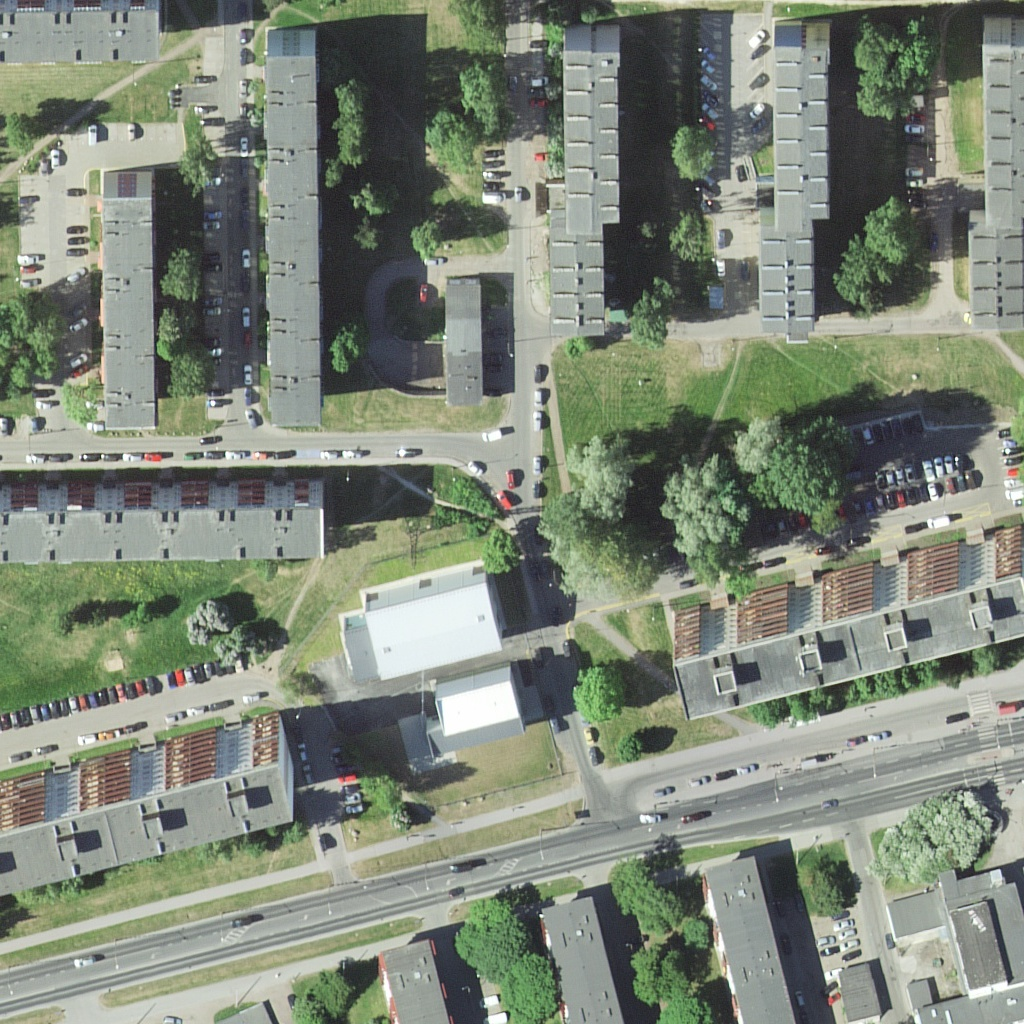building: (672, 528, 1022, 723), (1, 712, 304, 896), (1, 474, 329, 569), (264, 22, 334, 429), (341, 570, 511, 683), (700, 855, 801, 1024), (107, 166, 161, 432), (938, 865, 1021, 1024), (562, 18, 624, 228), (771, 21, 835, 222), (537, 893, 625, 1024), (1, 4, 167, 72), (418, 665, 528, 759), (978, 16, 1022, 228), (757, 217, 818, 341), (547, 222, 611, 339), (967, 222, 1024, 332), (380, 939, 448, 1024), (440, 276, 485, 399)
